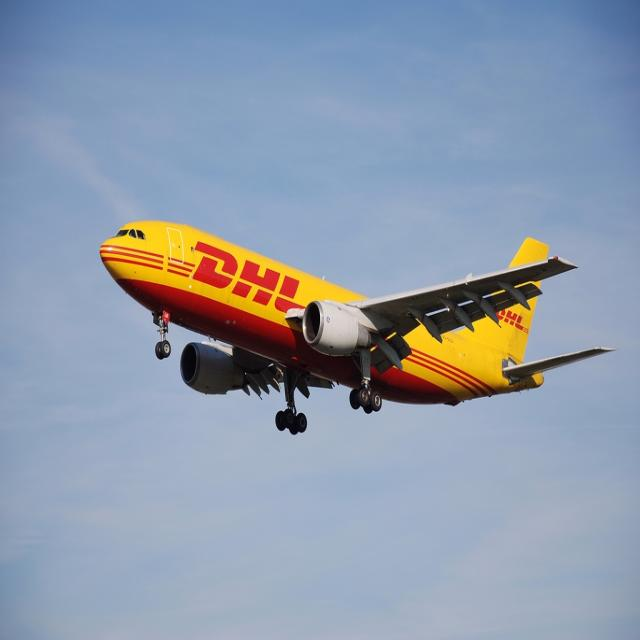dhl: (164, 235, 303, 317), (497, 307, 537, 342)
